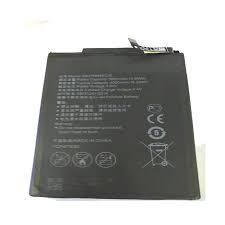battery: (9, 32, 215, 217)
